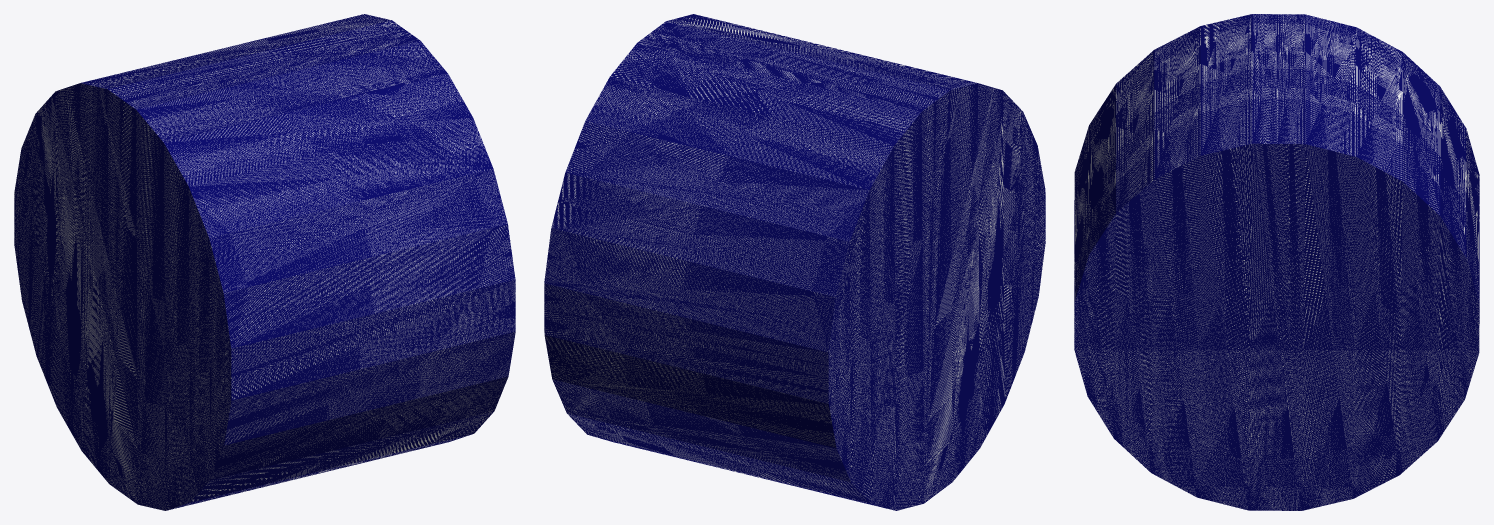
Rendered from original-6.obj.
3 views of the same model, side by side, from view 1: azimuth 30°, elevation 25°; view 2: azimuth 150°, elevation 25°; view 3: azimuth 270°, elevation 25° (orthographic). The views are drawn at different scales.
Parts seen in each view (by area): view 1: Group6/mesh8/mesh8-geometry#mesh8-geometry; view 2: Group6/mesh8/mesh8-geometry#mesh8-geometry; view 3: Group6/mesh8/mesh8-geometry#mesh8-geometry.
Part boxes in pixels (<box>): Group6/mesh8/mesh8-geometry#mesh8-geometry: <box>14,14,515,510</box>; Group6/mesh8/mesh8-geometry#mesh8-geometry: <box>544,14,1045,510</box>; Group6/mesh8/mesh8-geometry#mesh8-geometry: <box>1074,14,1479,510</box>.
Bounding box in the file's own units: 0.0454 × 0.06 × 0.06.
